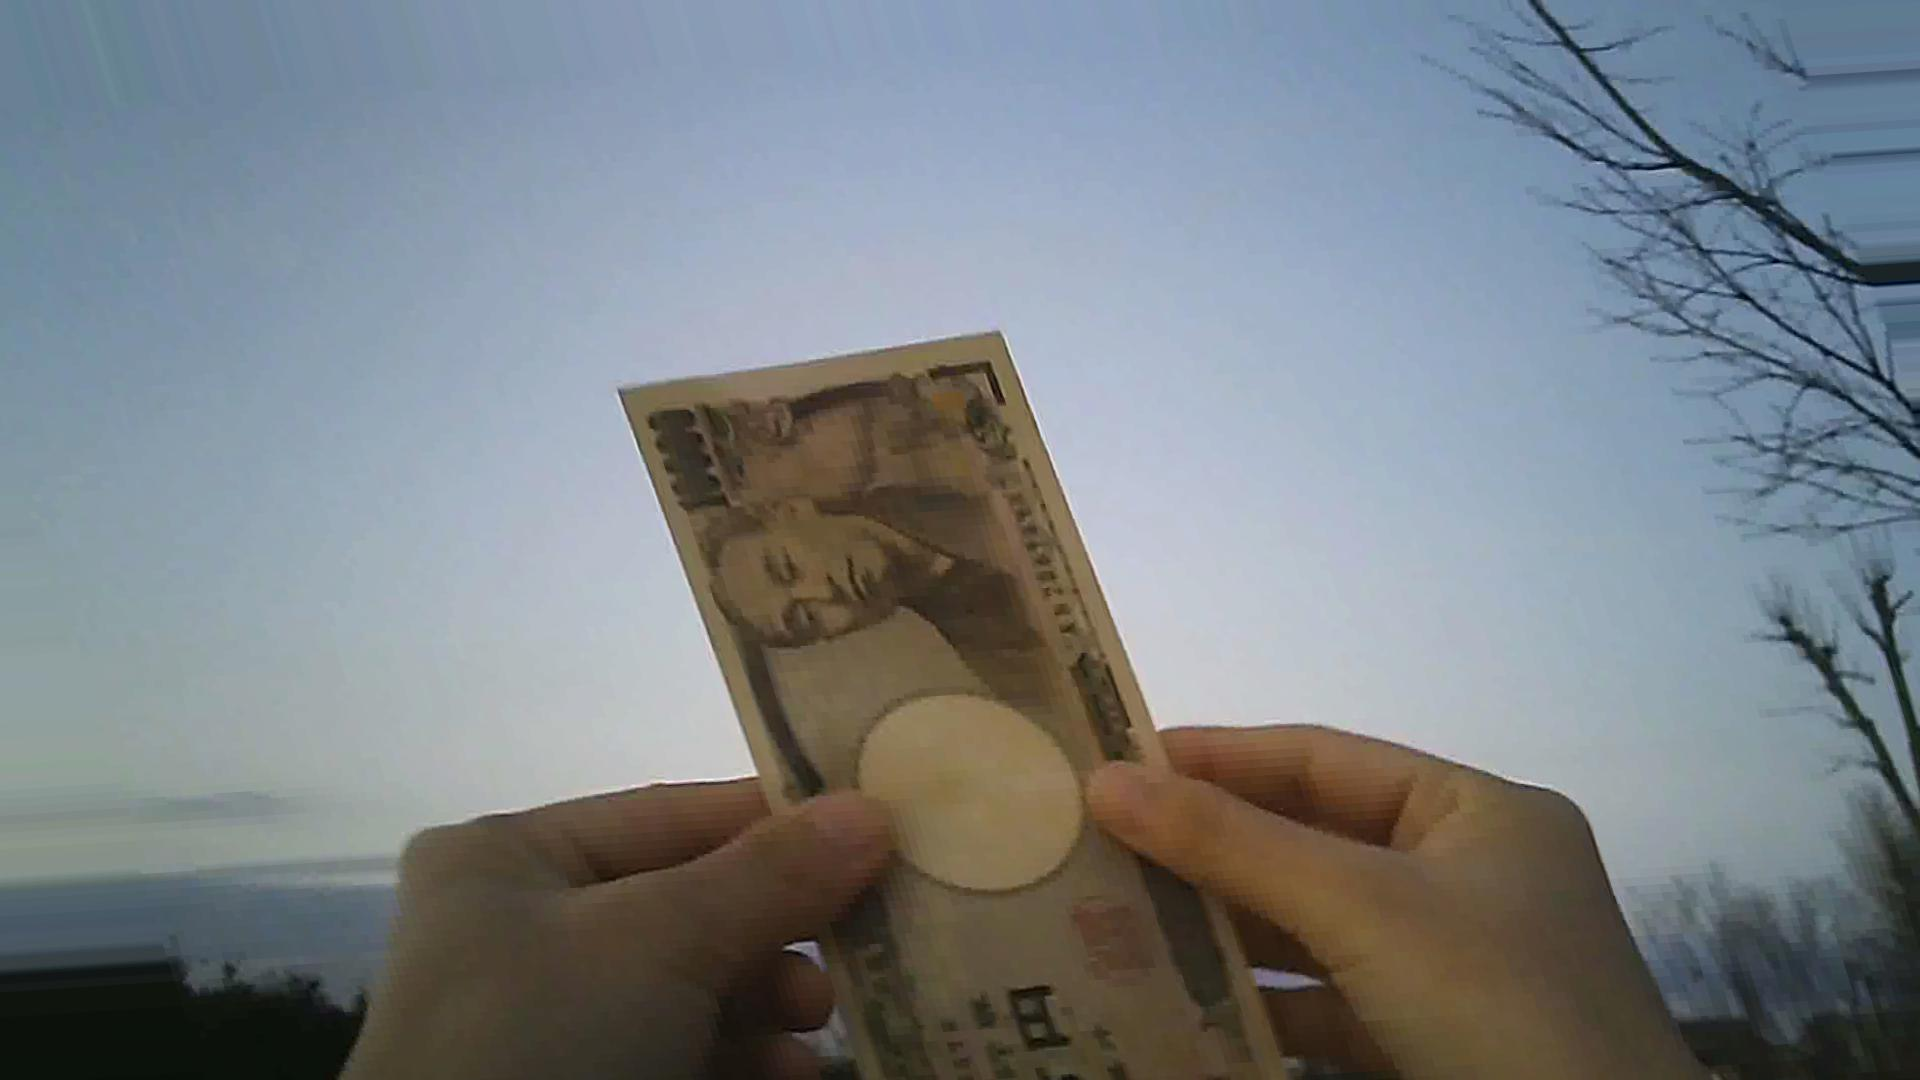10,000 Yen: (603, 324, 1290, 1069)
